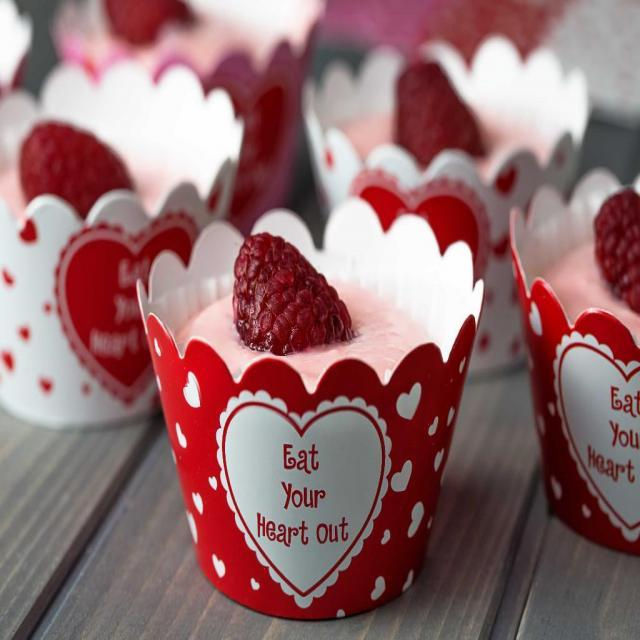Strawberry: (231, 227, 353, 362)
